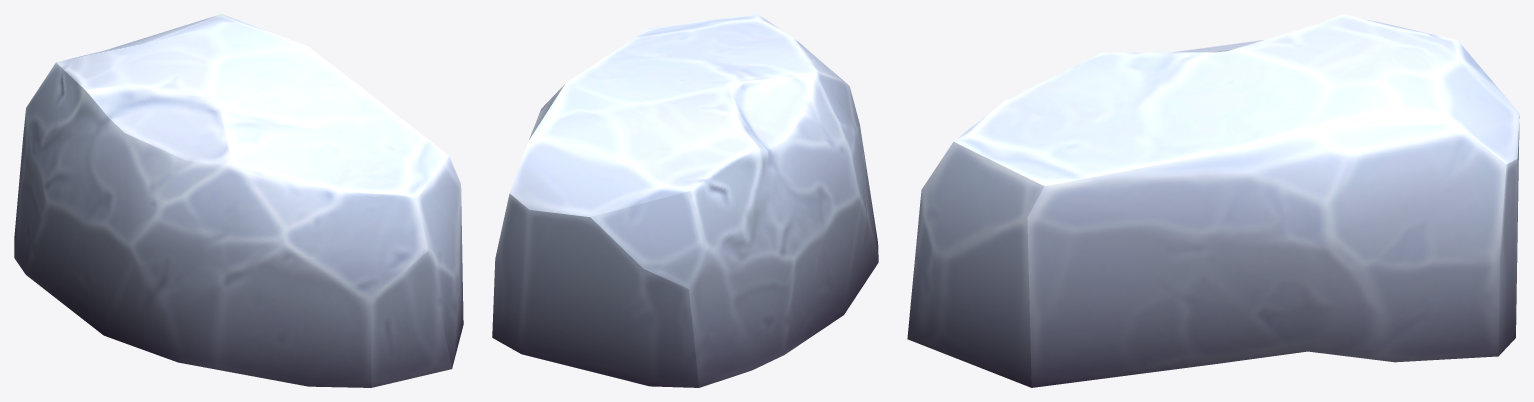
File: obj_stone09.gltf
The picture shows the model from 3 angles, left to right: view 1: azimuth 30°, elevation 25°; view 2: azimuth 150°, elevation 25°; view 3: azimuth 270°, elevation 25°; orthographic projection. The views are drawn at different scales.
Visible parts, largest first — view 1: obj_stone09; view 2: obj_stone09; view 3: obj_stone09.
Part boxes in pixels (x1=…): obj_stone09: x1=14, y1=14, x2=463, y2=387; obj_stone09: x1=492, y1=14, x2=878, y2=387; obj_stone09: x1=907, y1=14, x2=1519, y2=387.
Size of what is drawn, in the model's own units: 1.03 by 0.725 by 1.61.
Materials: 1 (1 with a texture image).
